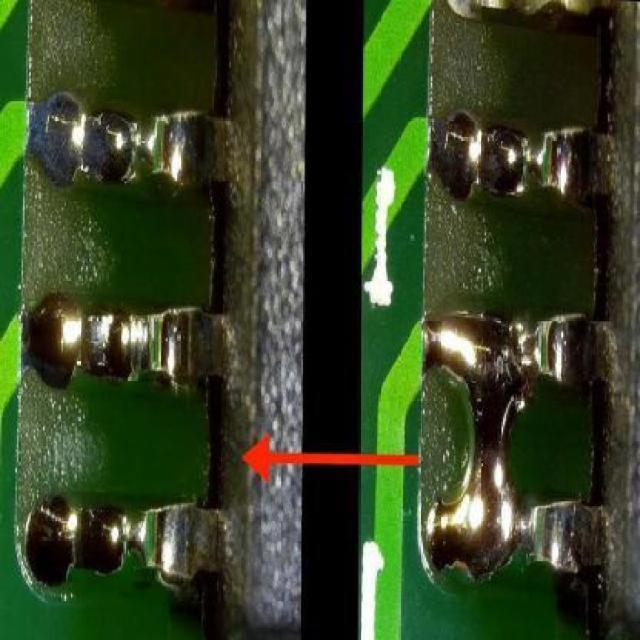Soldering shorted: (420, 308, 578, 588)
